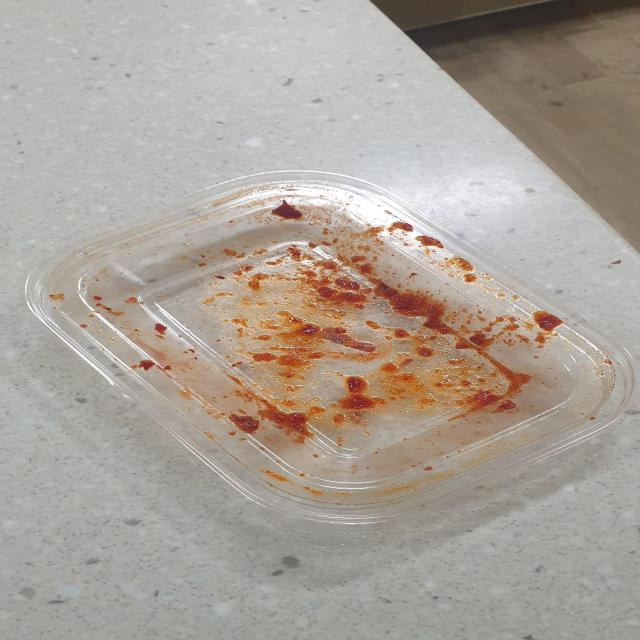litter: (32, 168, 636, 530)
